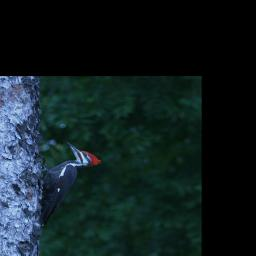Woodpecker: (37, 139, 101, 230)
